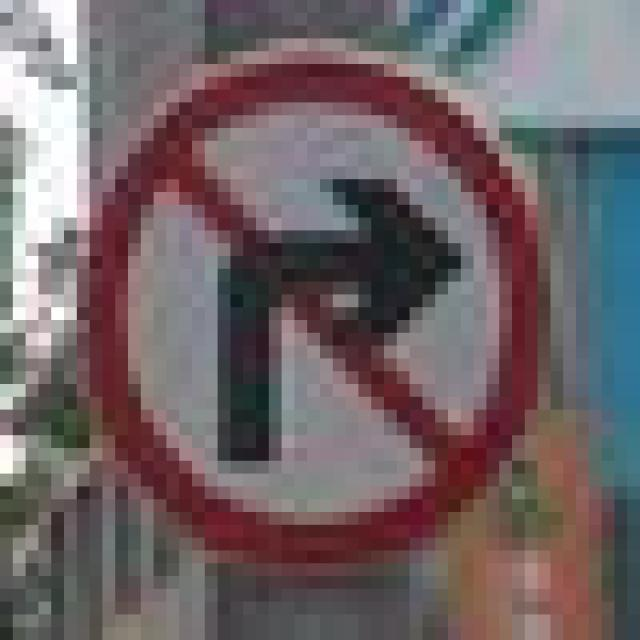right turn prohibited: (74, 45, 549, 569)
